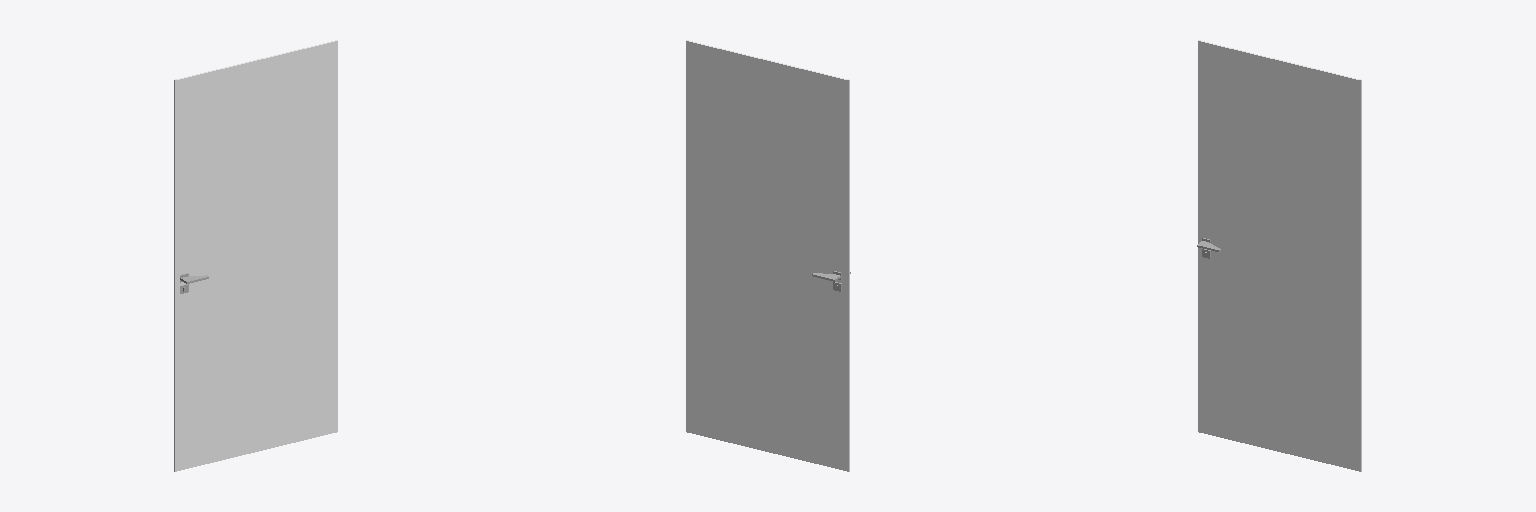
The model's file is porta.obj.
3 views of the same model, side by side, from view 1: azimuth 30°, elevation 25°; view 2: azimuth 150°, elevation 25°; view 3: azimuth 330°, elevation 25° (orthographic).
Visible parts, largest first — view 1: Mesh1 Group1 Model; view 2: Mesh1 Group1 Model; view 3: Mesh1 Group1 Model.
Boxes of the visible parts, box(x1,y1,x2,y2) form: Mesh1 Group1 Model: box(174, 40, 337, 471); Mesh1 Group1 Model: box(686, 40, 849, 471); Mesh1 Group1 Model: box(1198, 40, 1361, 471).
Bounding box in the file's own units: 0.92 × 2.11 × 0.1389.